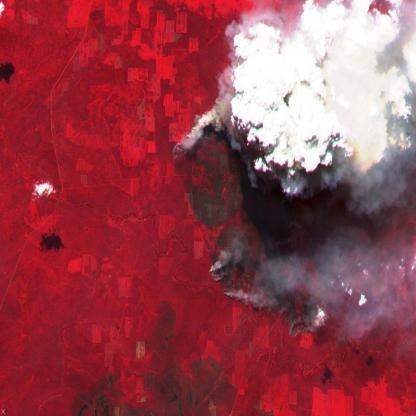fire: (166, 101, 326, 342)
